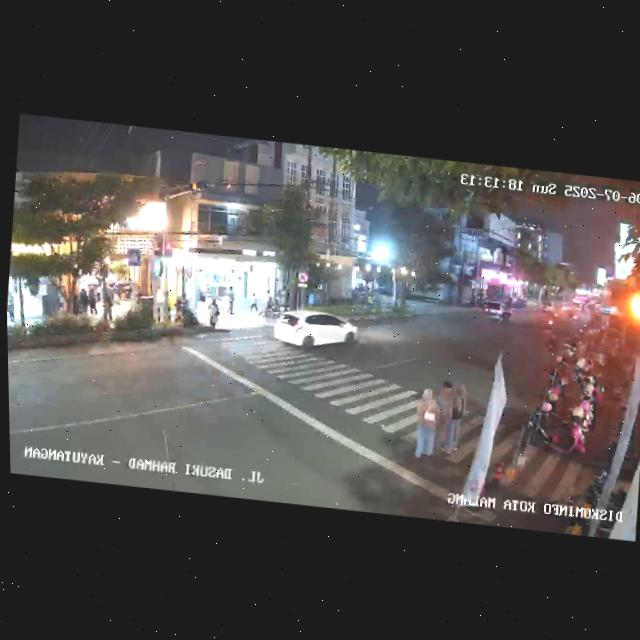car: (272, 304, 360, 357), (481, 301, 512, 325)
motorcycle: (542, 308, 558, 331)
person: (409, 383, 442, 464), (428, 379, 455, 458), (447, 381, 468, 464), (100, 285, 115, 326), (75, 284, 90, 317), (87, 284, 100, 317), (208, 298, 221, 329), (226, 286, 237, 315), (248, 291, 260, 315), (7, 296, 15, 325)
